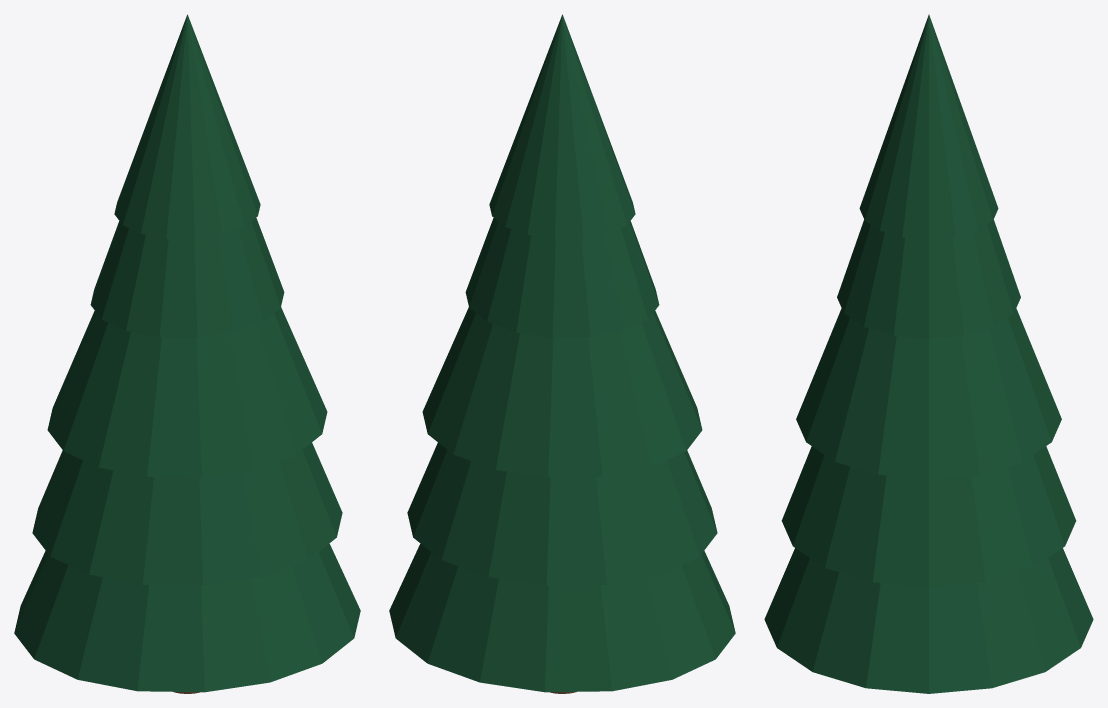
File: pinetree.glb
The picture shows the model from 3 angles, left to right: view 1: azimuth 30°, elevation 25°; view 2: azimuth 150°, elevation 25°; view 3: azimuth 270°, elevation 25°; orthographic projection.
Visible parts, largest first — view 1: Cone.001, Cone.003, Cone.002, Cone.005, Cone.004; view 2: Cone.001, Cone.003, Cone.002, Cone.005, Cone.004; view 3: Cone.003, Cone.001, Cone.002, Cone.005, Cone.004.
Boxes of the visible parts, left/top/right/bottom form: Cone.001: left=14, top=543, right=360, bottom=692; Cone.003: left=47, top=307, right=327, bottom=477; Cone.002: left=32, top=442, right=342, bottom=585; Cone.005: left=114, top=14, right=260, bottom=238; Cone.004: left=90, top=218, right=284, bottom=337; Cone.001: left=389, top=543, right=735, bottom=692; Cone.003: left=422, top=307, right=702, bottom=477; Cone.002: left=407, top=442, right=717, bottom=585; Cone.005: left=489, top=14, right=635, bottom=238; Cone.004: left=465, top=218, right=659, bottom=337; Cone.003: left=796, top=308, right=1061, bottom=479; Cone.001: left=764, top=548, right=1093, bottom=693; Cone.002: left=781, top=446, right=1076, bottom=587; Cone.005: left=859, top=14, right=998, bottom=239; Cone.004: left=837, top=219, right=1020, bottom=338.
Size of the model in its own units: 1.74 by 3.63 by 1.63.
